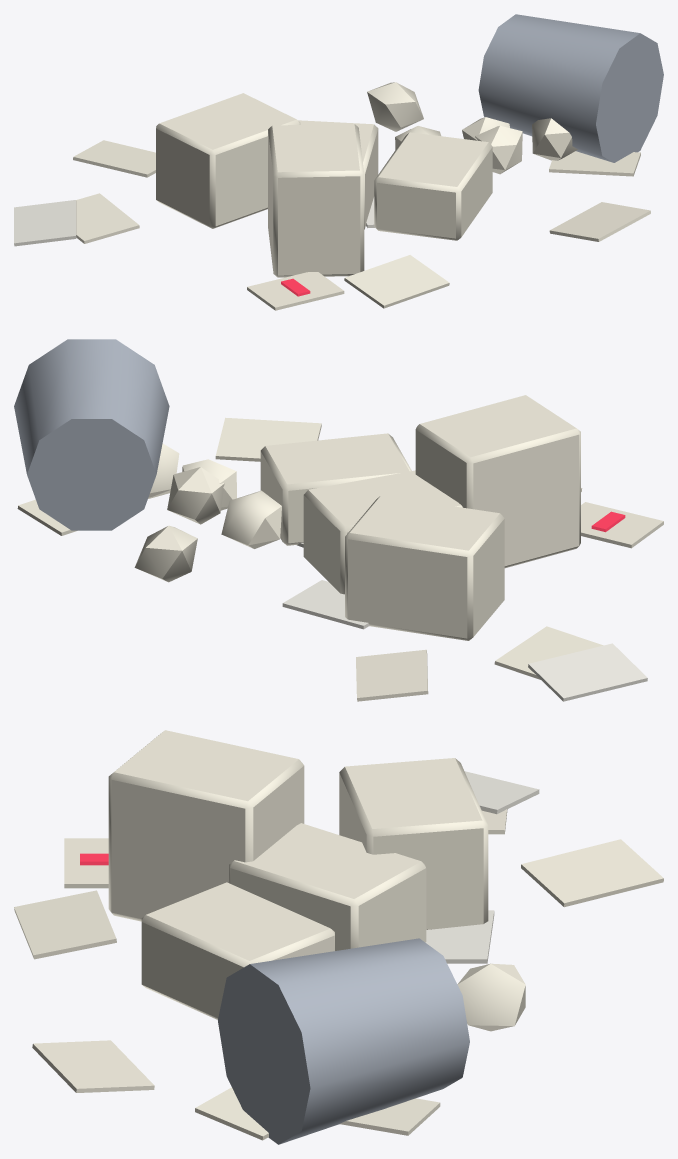
The model's file is ex_papers.glb.
3 views of the same model, one above another, from view 1: azimuth 30°, elevation 25°; view 2: azimuth 150°, elevation 25°; view 3: azimuth 270°, elevation 25° (orthographic). The views are drawn at different scales.
Parts seen in each view (by area): view 1: ex_papers; view 2: ex_papers; view 3: ex_papers.
Boxes of the visible parts, x1,y1,x2,y2 form: ex_papers: [14, 14, 663, 310]; ex_papers: [14, 339, 663, 701]; ex_papers: [14, 730, 663, 1144].
Bounding box in the file's own units: 2.45 × 0.4595 × 1.68.
2 materials, 2 textured.
